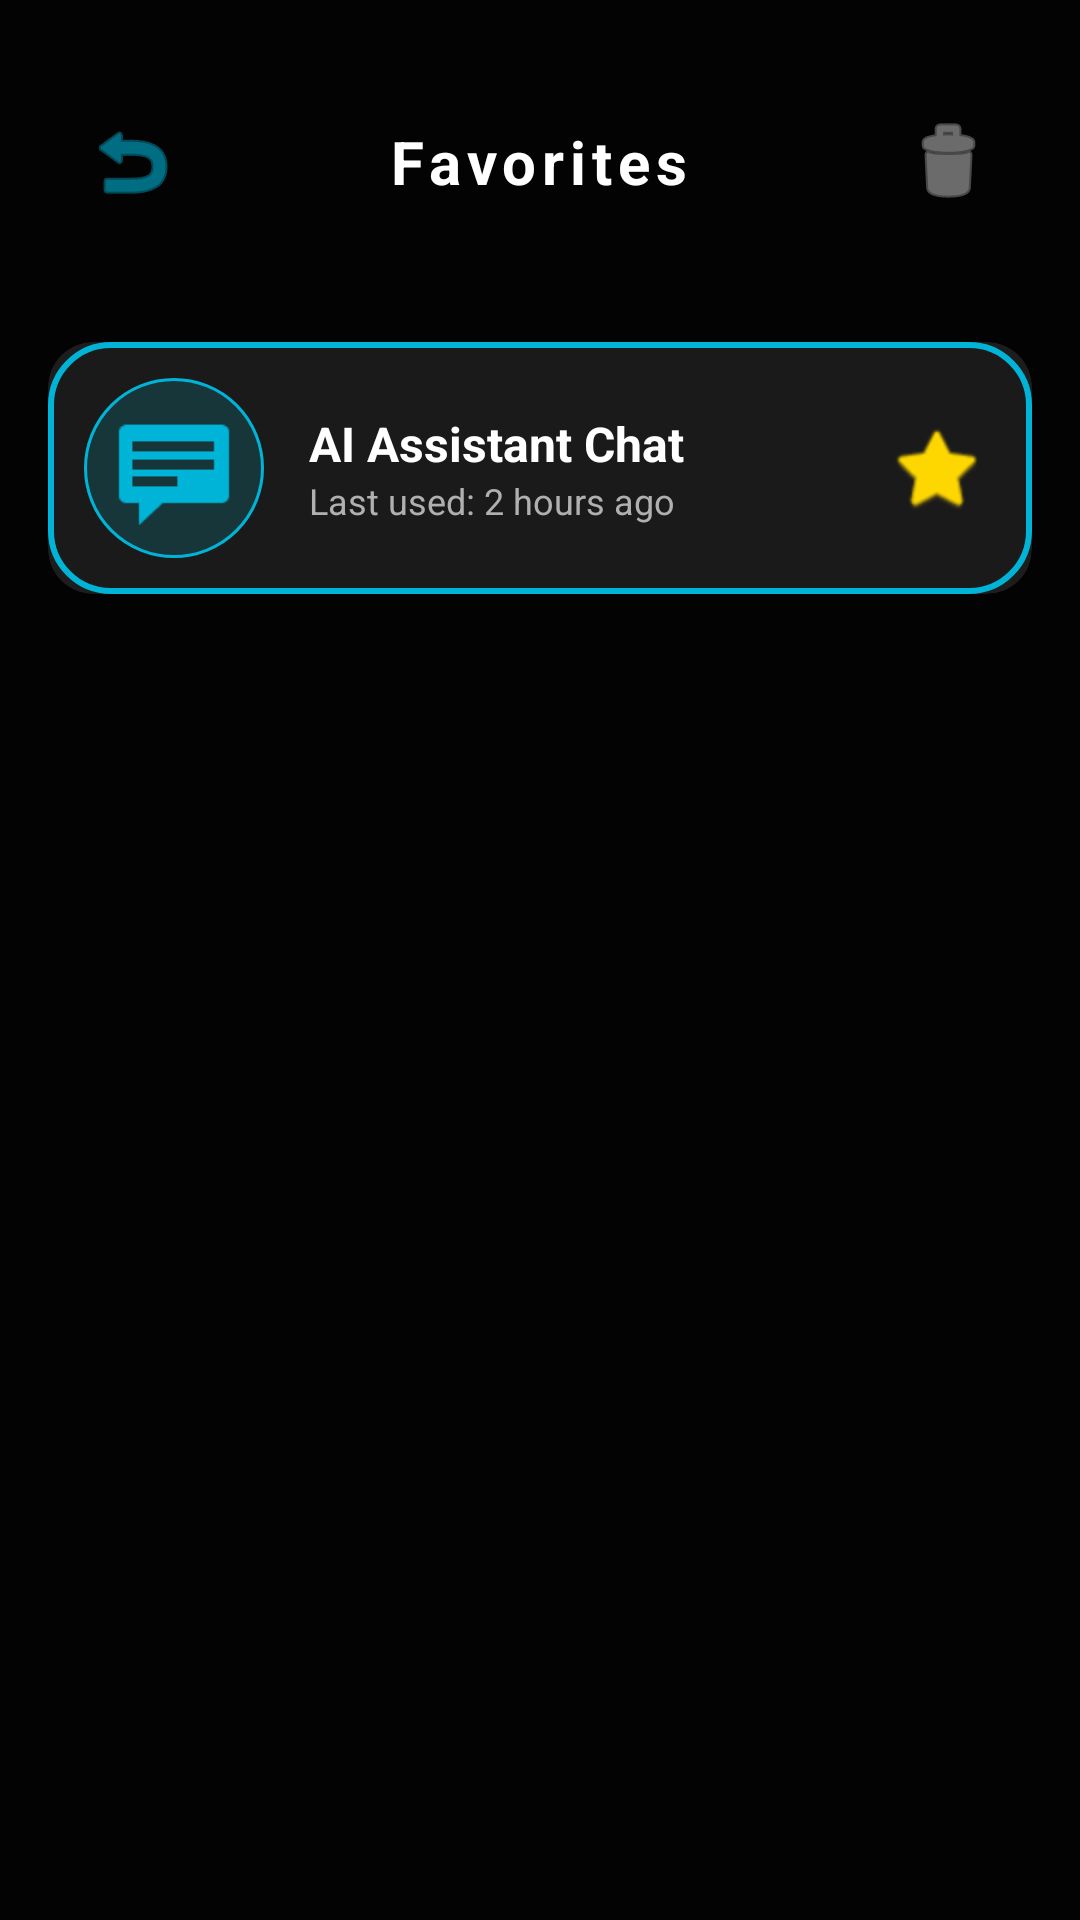

Icons on this 1080px x 1920px Android screen, each with its box as (x1, y1, x2, y2):
Back: (99, 131, 168, 194)
Clear All: (922, 123, 975, 198)
star on: (897, 430, 977, 508)
